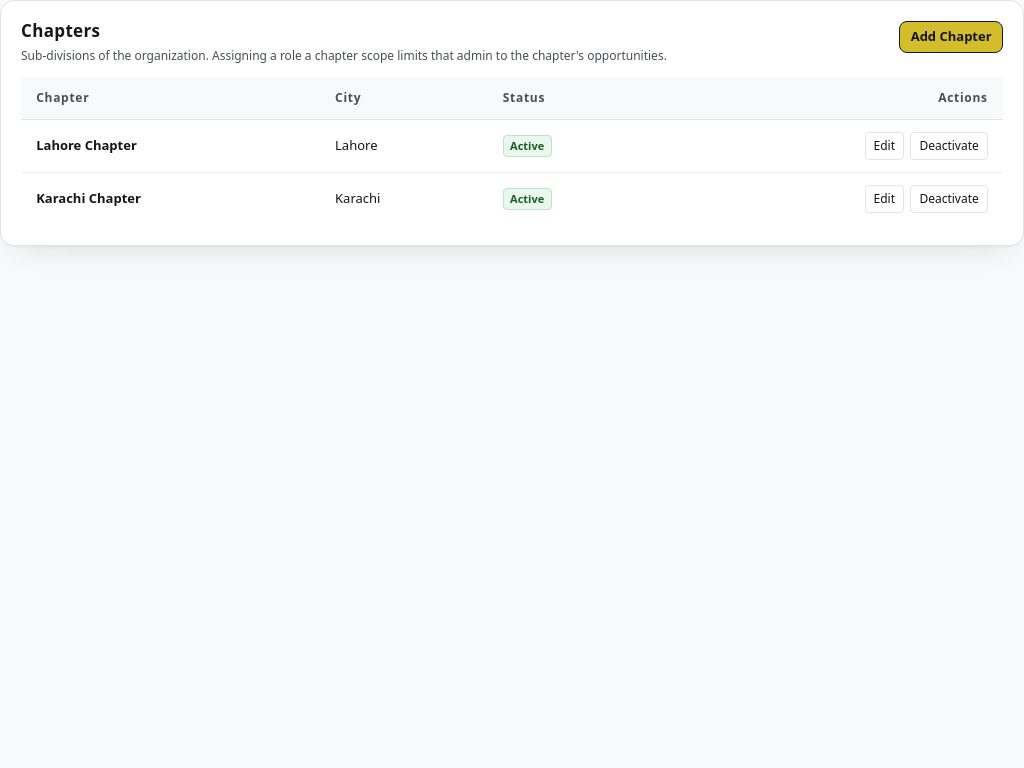
Test case: ChaptersPanel › opens EditChapterDrawer in edit mode when clicking Edit
What coordinates should you click on to do the following:
click the button "Edit" in the row of "Lahore Chapter"
I would click on:
 (884, 146)
Its box is [864,132,904,160].
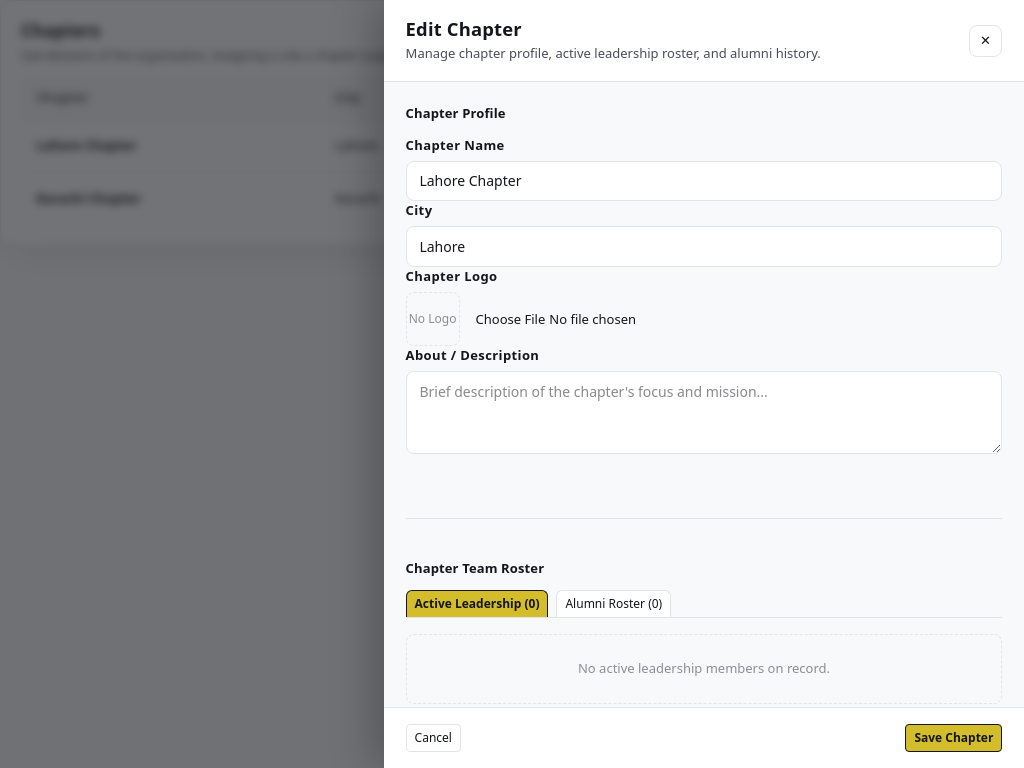
Now the heading "Edit Chapter" is shown, box [406,18,522,40]
Now the button "Save Chapter" is shown, box [905,724,1002,752]
